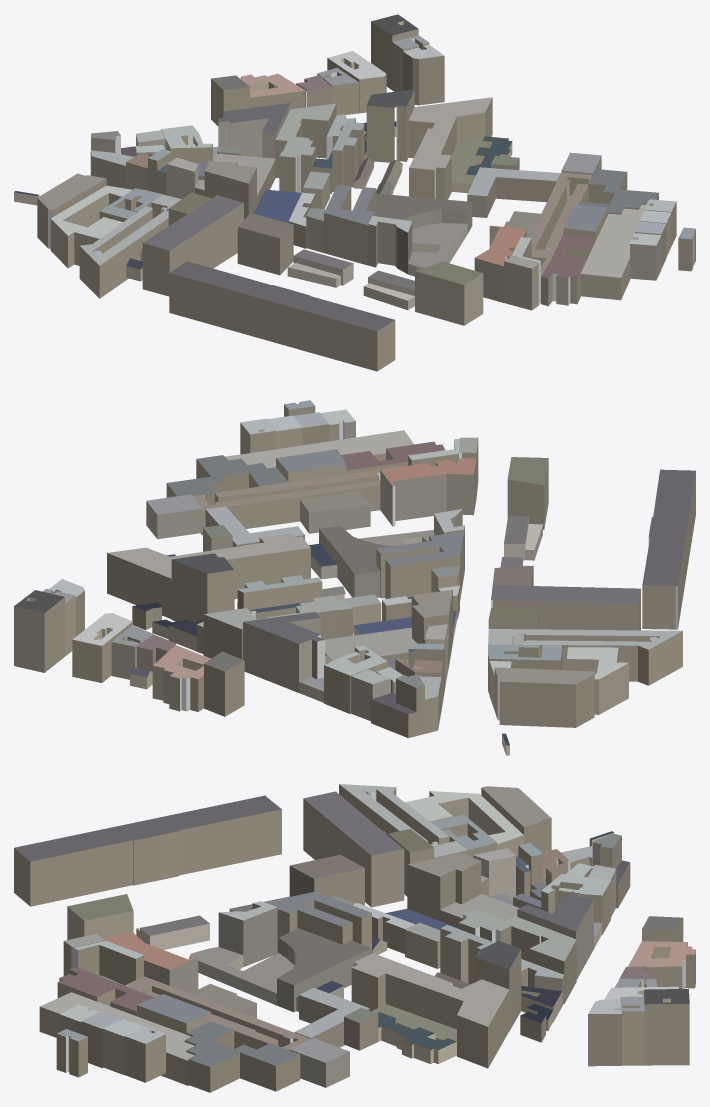
The picture shows the model from 3 angles, top to bottom: view 1: azimuth 30°, elevation 25°; view 2: azimuth 150°, elevation 25°; view 3: azimuth 270°, elevation 25°; orthographic projection. The views are drawn at different scales.
Visible parts, largest first — view 1: tuile; view 2: tuile; view 3: tuile.
Boxes of the visible parts, bbox=[...] form: tuile: bbox=[14, 14, 695, 371]; tuile: bbox=[14, 400, 695, 755]; tuile: bbox=[14, 784, 695, 1092].
Size of the model in its own units: 272 by 31.29 by 285.
